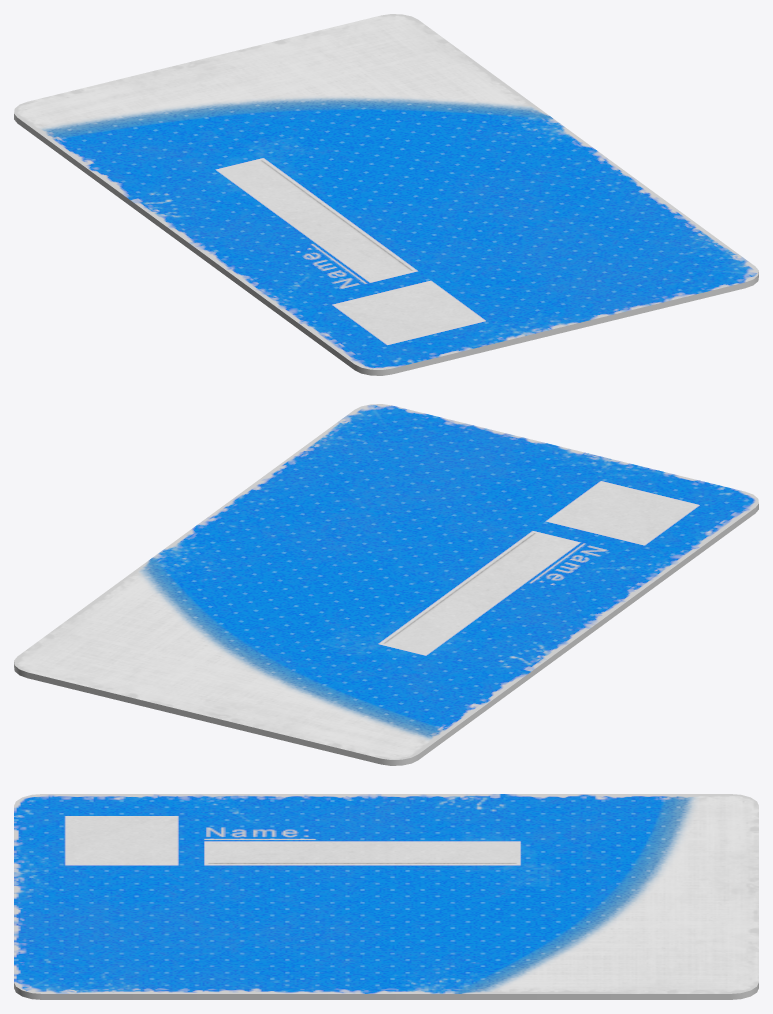
The picture shows the model from 3 angles, top to bottom: view 1: azimuth 30°, elevation 25°; view 2: azimuth 150°, elevation 25°; view 3: azimuth 270°, elevation 25°; orthographic projection. The views are drawn at different scales.
Visible parts, largest first — view 1: Card_Mesh; view 2: Card_Mesh; view 3: Card_Mesh.
Boxes of the visible parts, <box> form: Card_Mesh: <box>14,14,758,375</box>; Card_Mesh: <box>14,404,758,765</box>; Card_Mesh: <box>14,794,758,999</box>.
Size of the model in its own units: 5.4 by 0.0762 by 8.5.
1 material, 1 textured.
